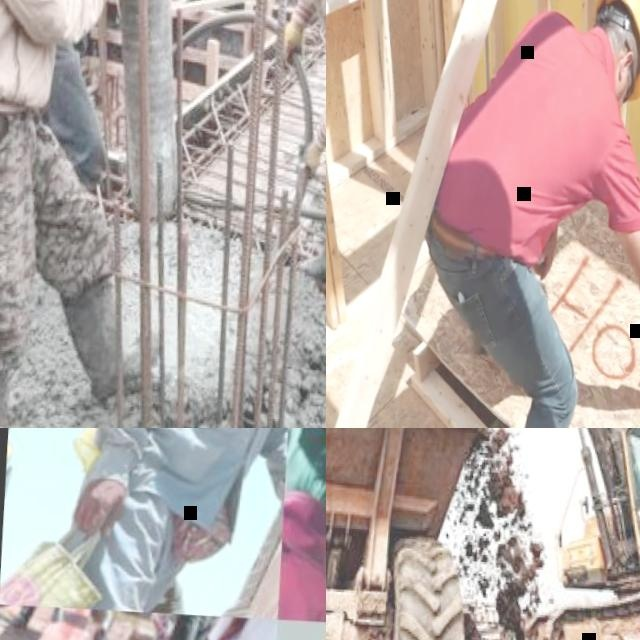Hardhat: (590, 0, 640, 103)
NO-Safety Vest: (431, 2, 625, 269), (126, 428, 272, 515), (0, 0, 72, 111)
Person: (394, 0, 640, 428), (0, 0, 199, 428), (49, 428, 291, 615), (232, 0, 326, 361), (270, 428, 326, 621), (0, 428, 29, 546), (85, 602, 120, 640)
Safety Vest: (3, 441, 13, 494)
machinery: (326, 428, 640, 640), (326, 428, 499, 640)
